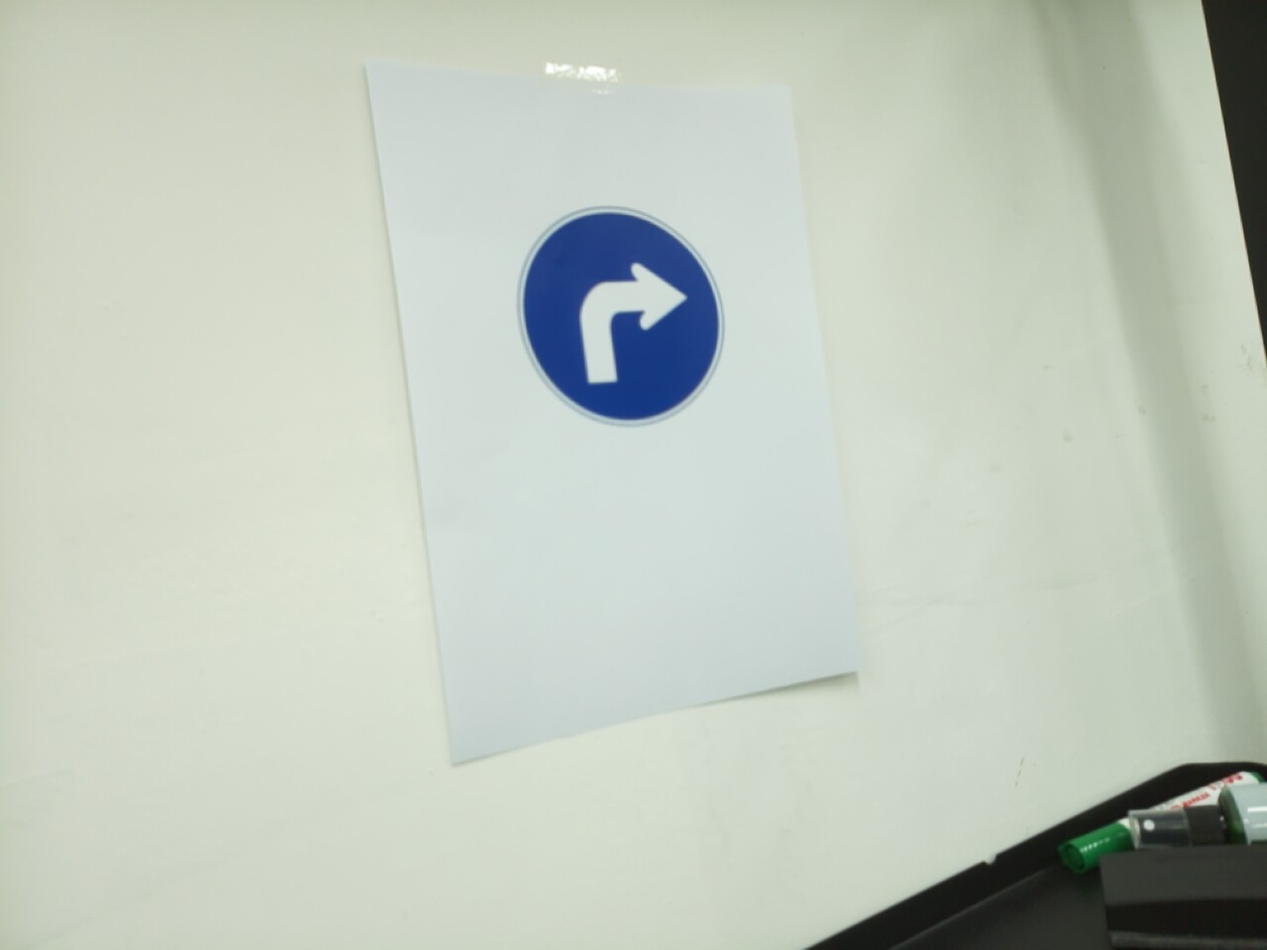right_turn: (516, 205, 727, 428)
